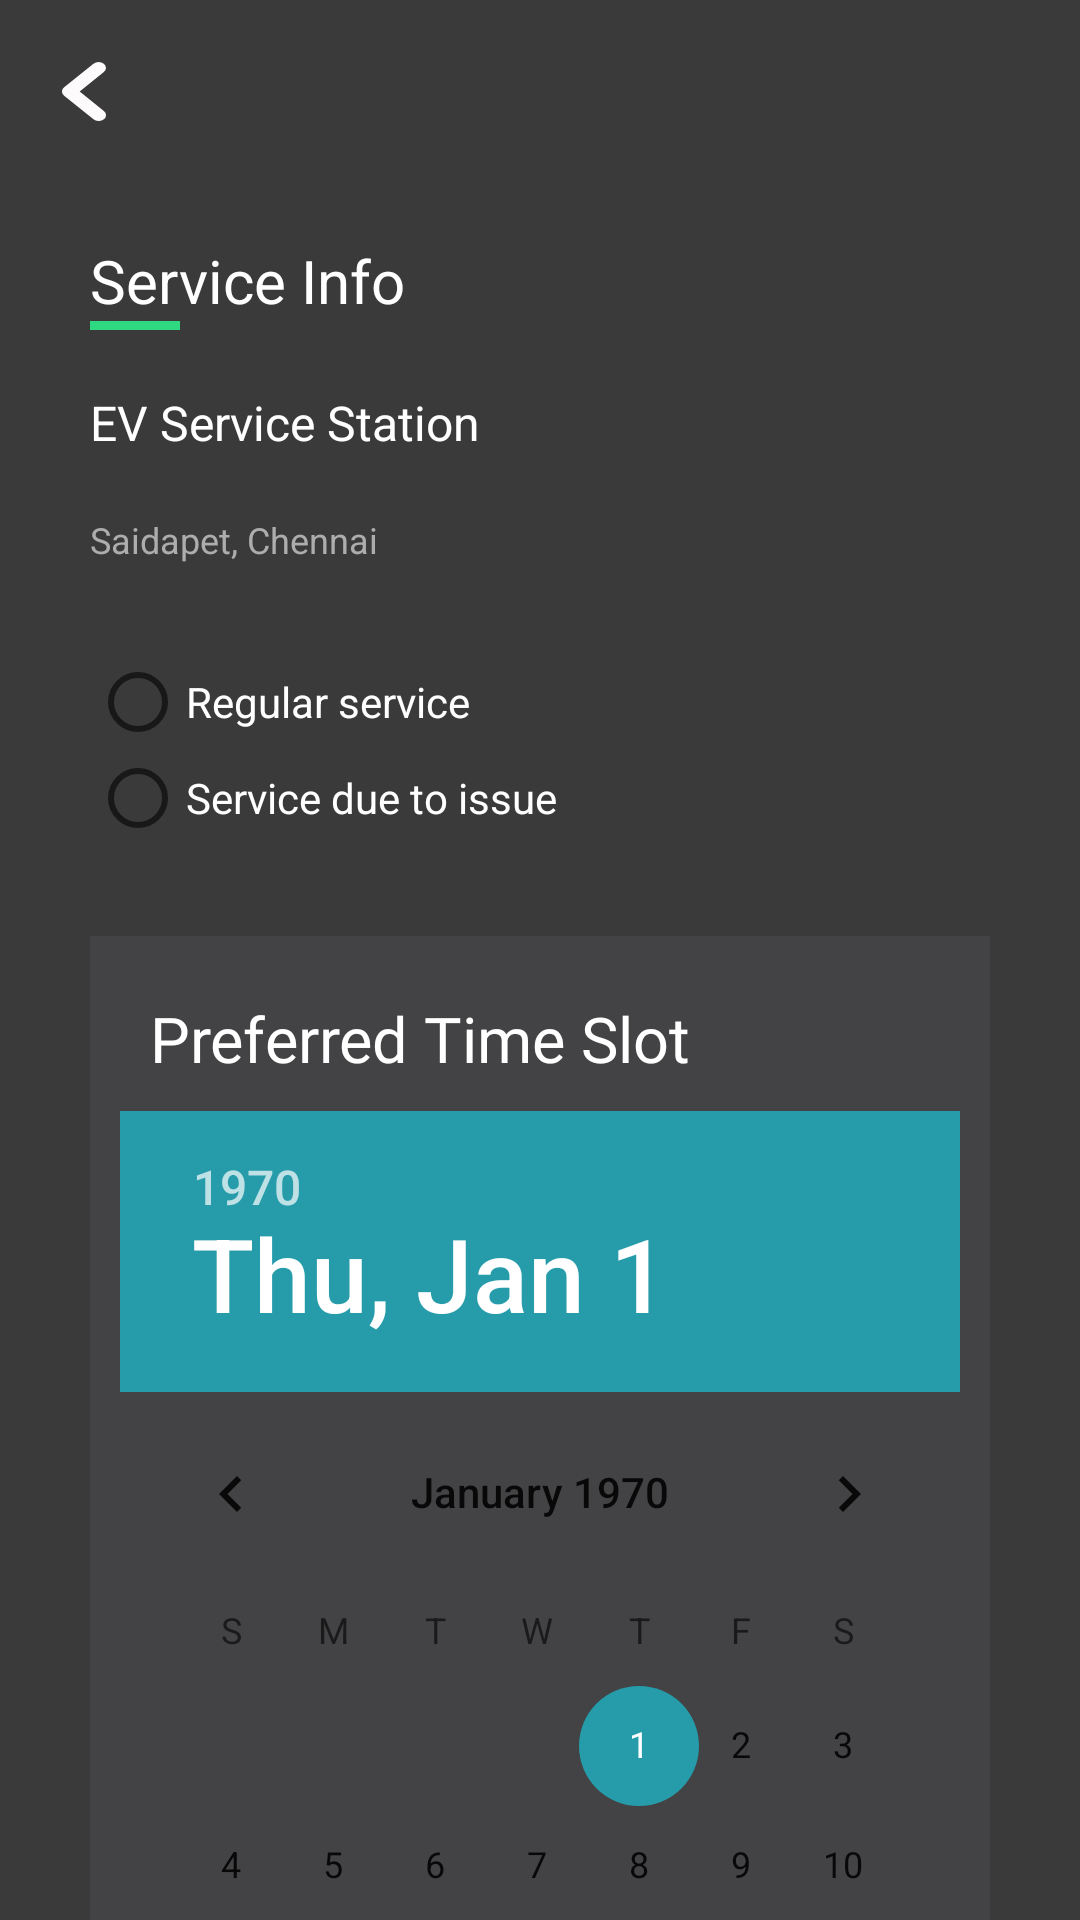

Screen size 1080px x 1920px. Icon name, then its box in pixels as [x1, y1, x2, y2]:
back: [62, 62, 106, 121]
